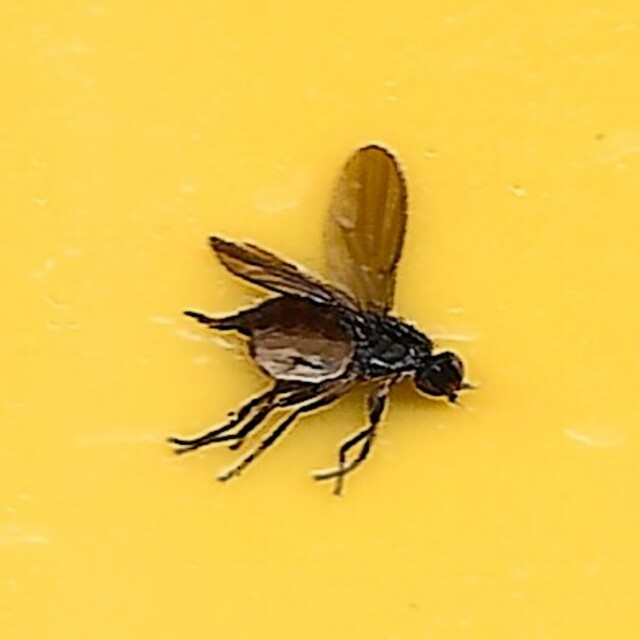Brachycera: (163, 143, 477, 497)
